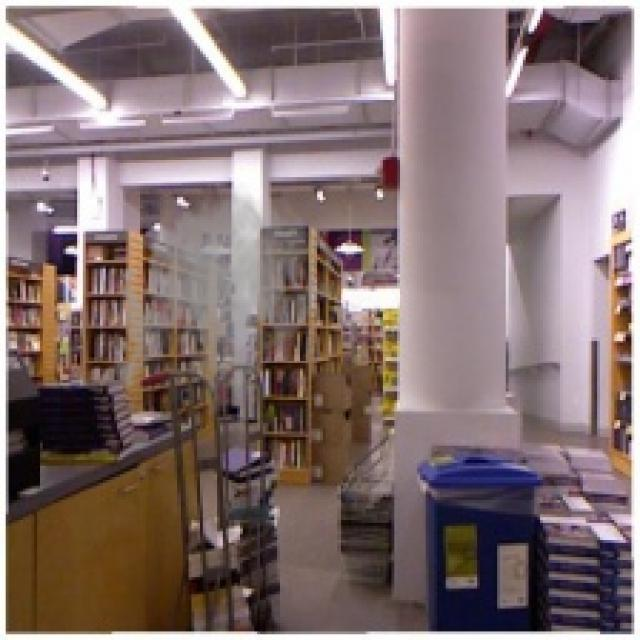Smoke: (108, 180, 332, 423)
